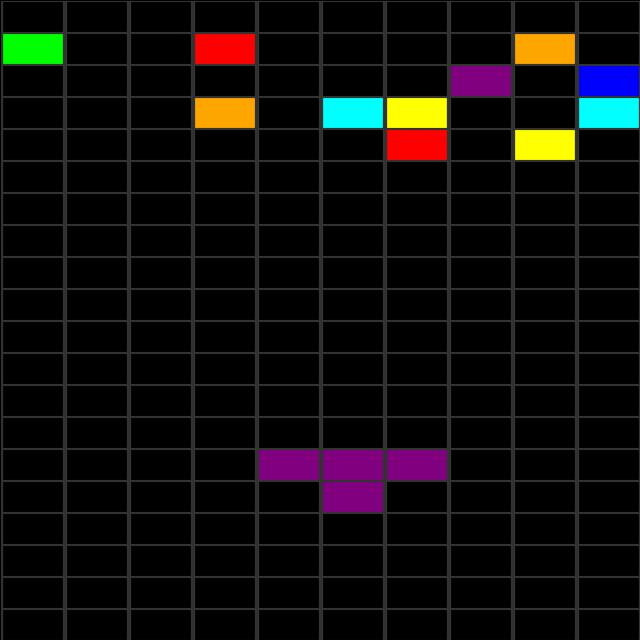Tetrimino_J: (254, 449, 446, 511)
